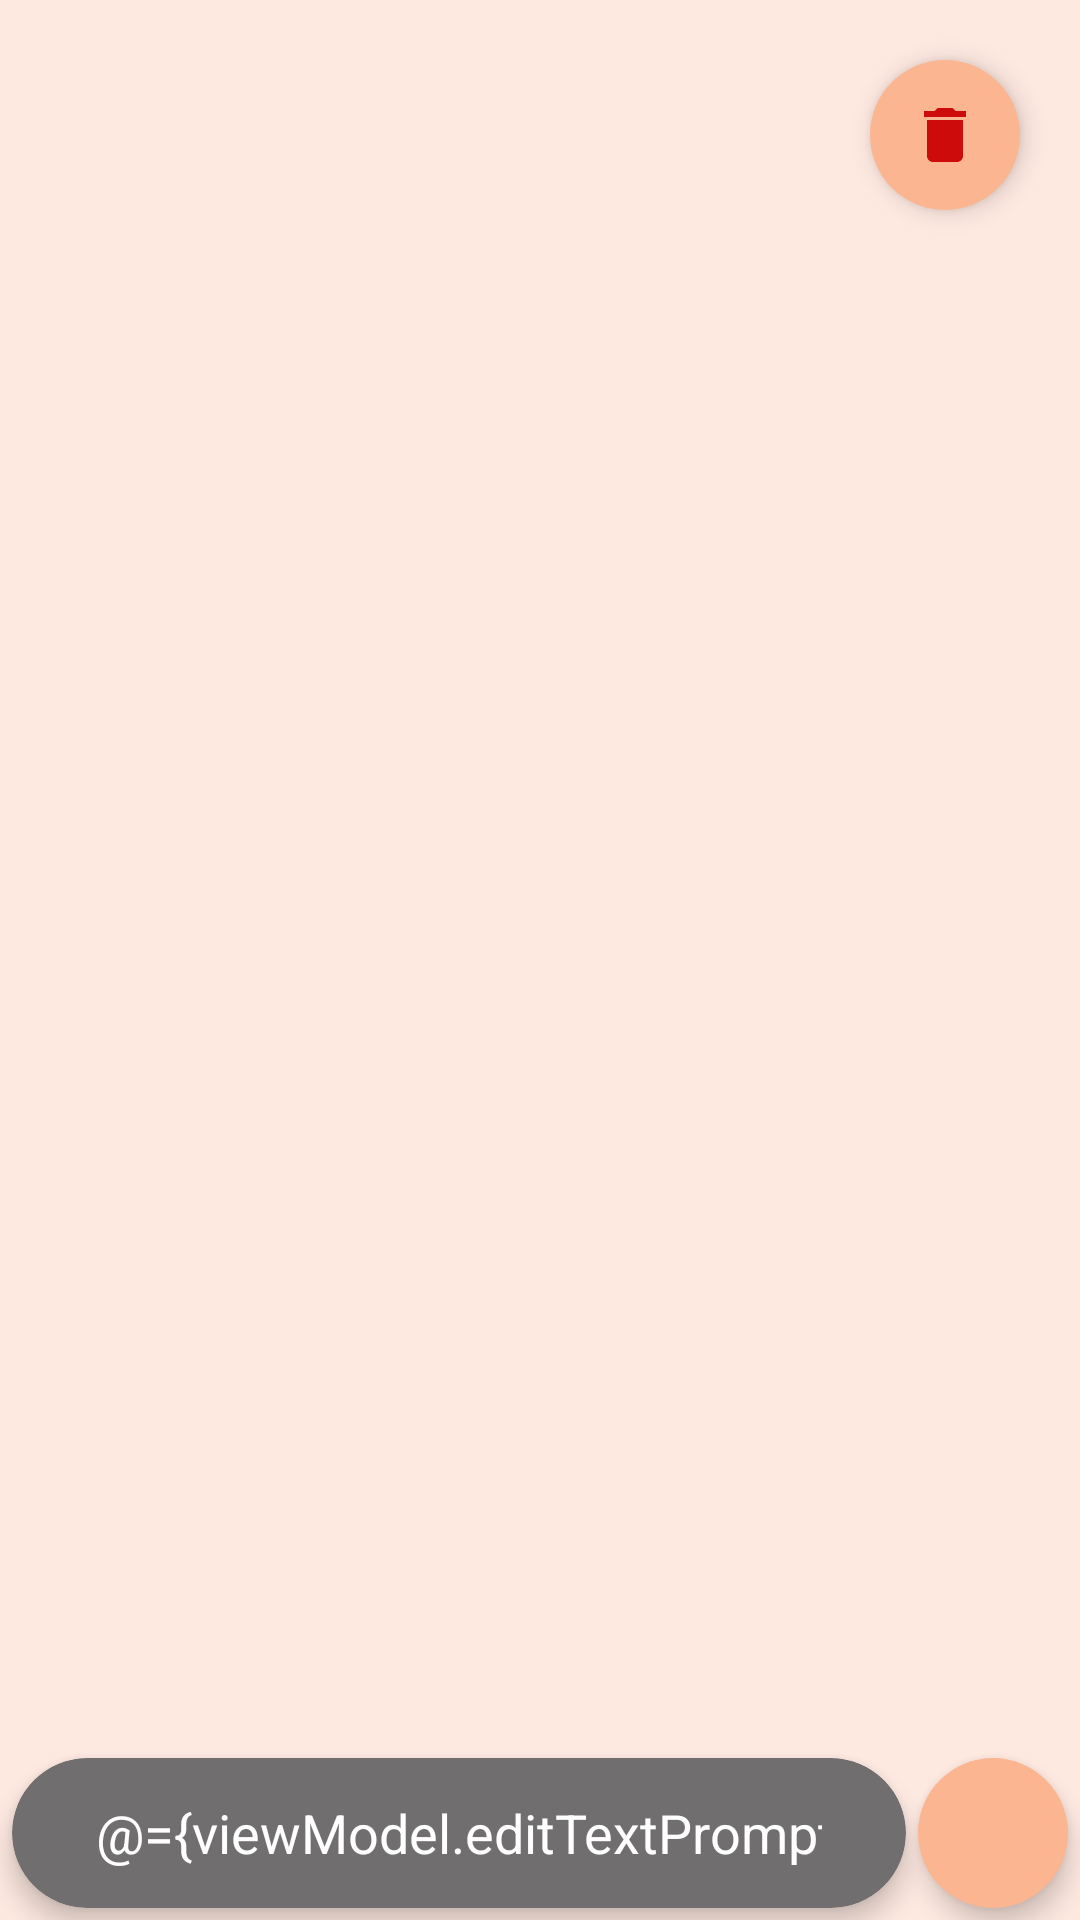

Where to tap for icons on this 1080w x 1920h app screen, as point (x, y):
Clear chat: point (945, 135)
